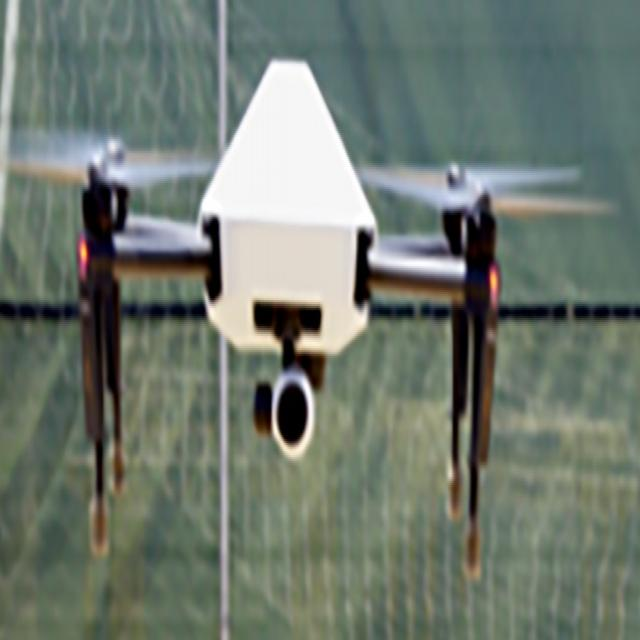drone: (0, 43, 630, 583)
